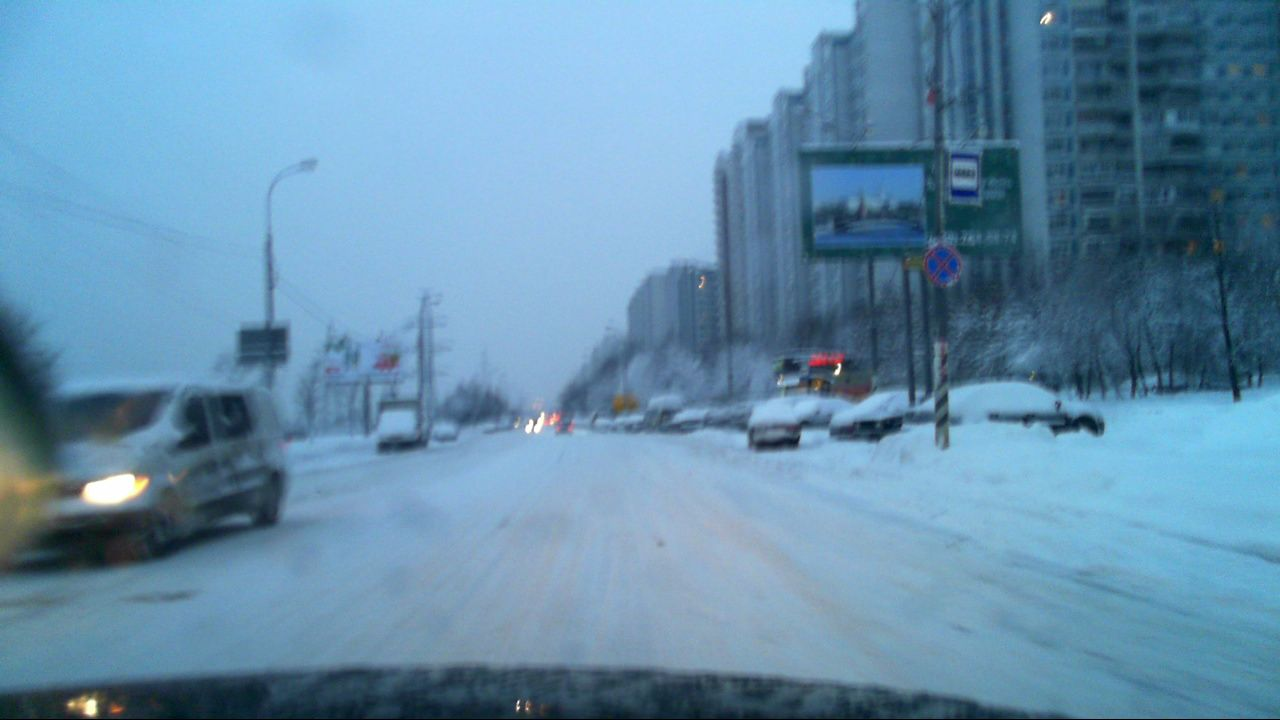No Parking: (922, 241, 965, 286)
